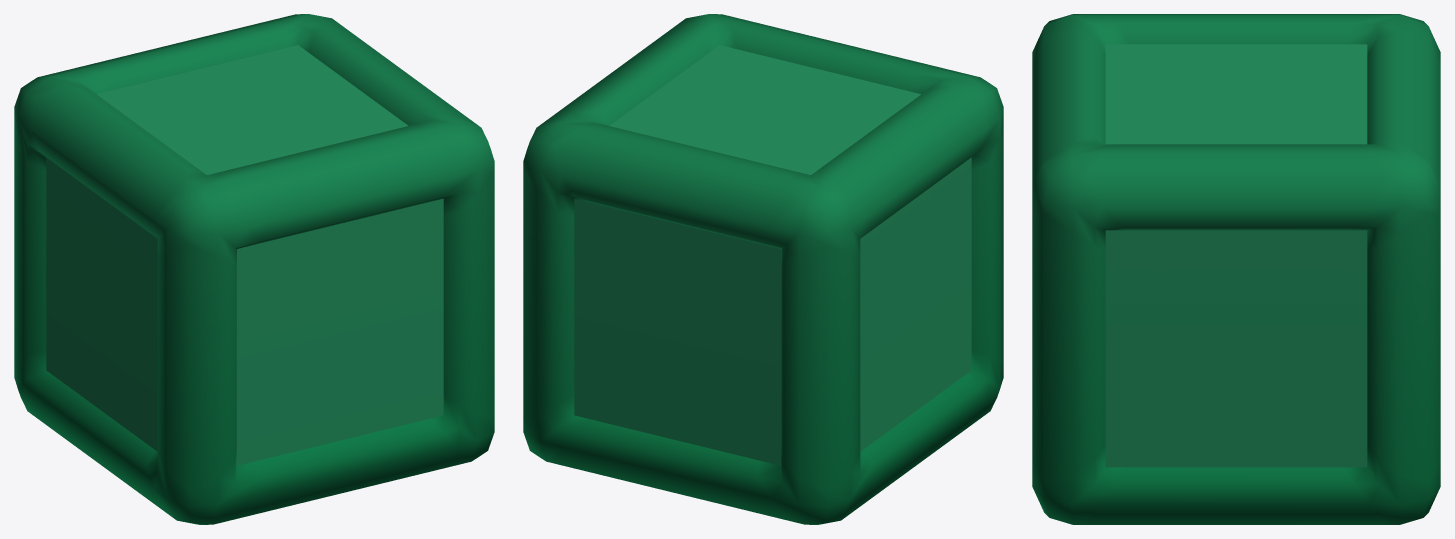
Rendered from Block_Green.fbx.
The picture shows the model from 3 angles, left to right: view 1: azimuth 30°, elevation 25°; view 2: azimuth 150°, elevation 25°; view 3: azimuth 270°, elevation 25°; orthographic projection. The views are drawn at different scales.
Parts seen in each view (by area): view 1: Block_Green; view 2: Block_Green; view 3: Block_Green.
Boxes of the visible parts, <box> form: Block_Green: <box>14,14,494,524</box>; Block_Green: <box>523,14,1003,524</box>; Block_Green: <box>1032,14,1440,524</box>.
Bounding box in the file's own units: 100 × 100 × 100.
